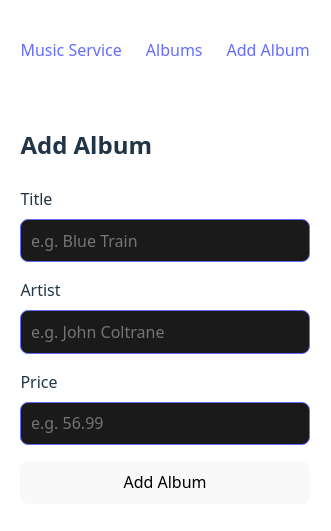
Add Album › shows error when API fails
This screenshot has width=331, height=531.
Type "Test" into the field with id "title" at (165,241), box x1=20 y1=219 x2=309 y2=262
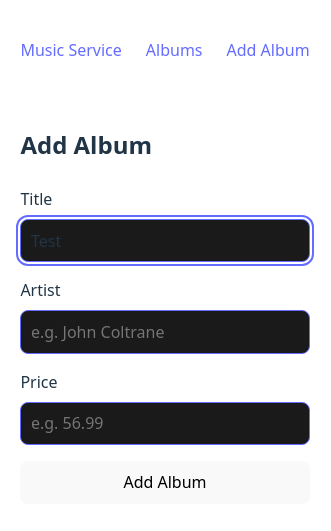
Type "Artist" into the field with id "artist" at (165,332), box x1=20 y1=310 x2=309 y2=353
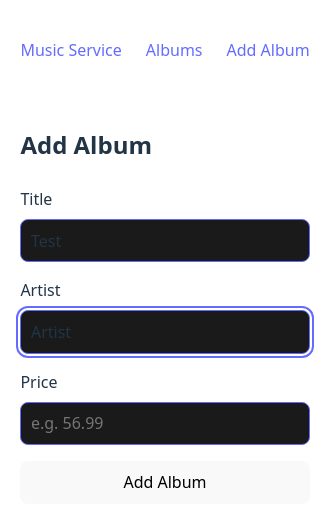
Type "10" into the number field labelled "Price" at (165,424), box x1=20 y1=402 x2=309 y2=445
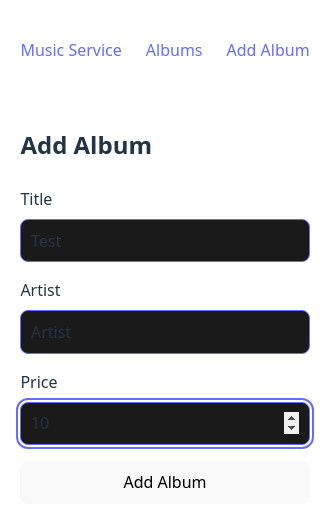
Click the button "Add Album" at (165,483), box x1=20 y1=461 x2=309 y2=504
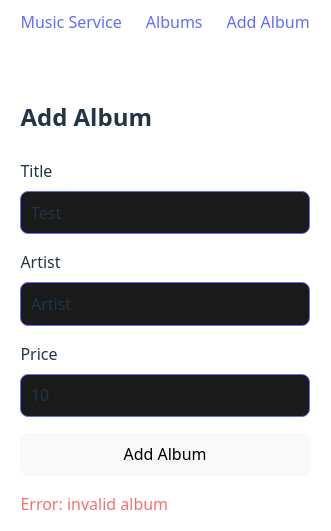
Expected: the text "Error: invalid album" is shown, x1=20 y1=493 x2=168 y2=515
